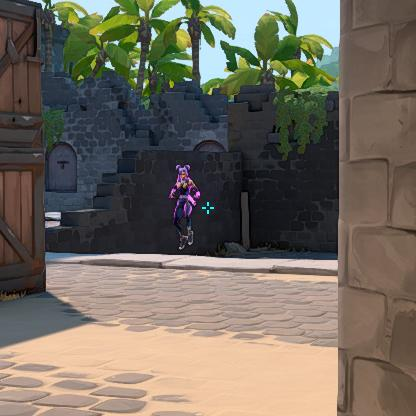enemyBody: (181, 181, 187, 197)
enemyHead: (180, 169, 187, 179)
